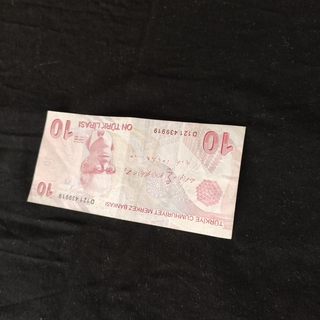10TLBack: (25, 109, 247, 240)
